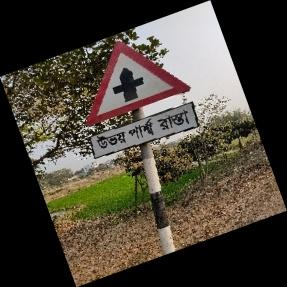Crossroad: (84, 40, 197, 165)
